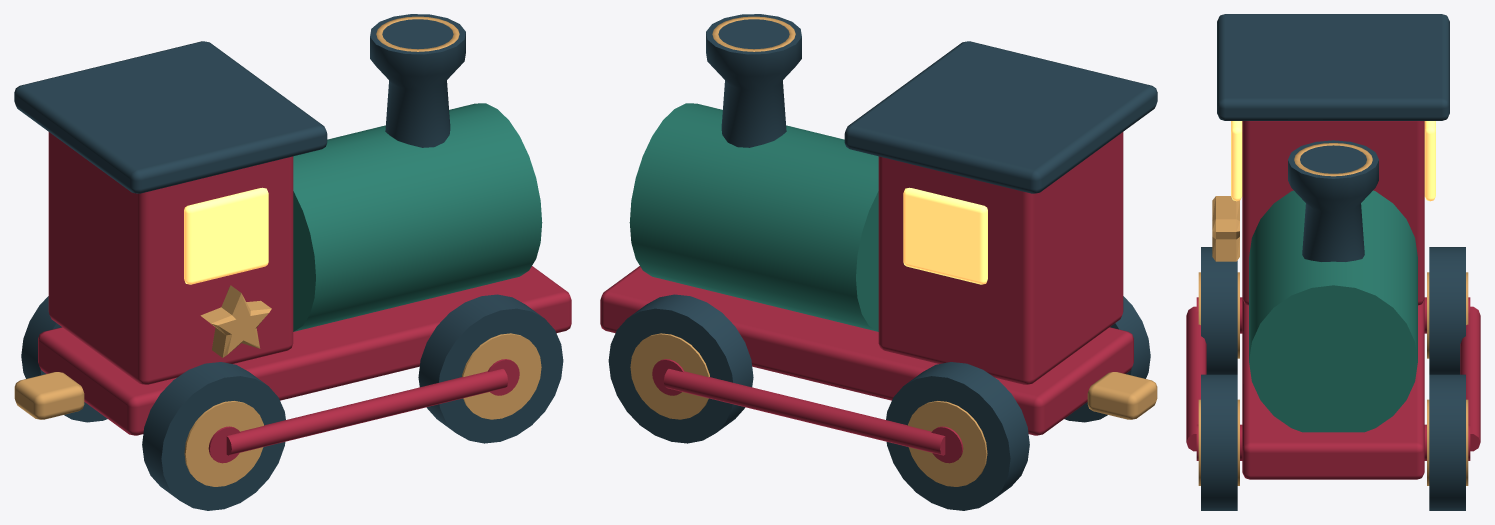
The model's file is train.glb.
The picture shows the model from 3 angles, left to right: view 1: azimuth 30°, elevation 25°; view 2: azimuth 150°, elevation 25°; view 3: azimuth 270°, elevation 25°; orthographic projection. The views are drawn at different scales.
Parts seen in each view (by area): view 1: little-christmas-train; view 2: little-christmas-train; view 3: little-christmas-train.
Part boxes in pixels (box(x1,y1,x2,y2)): little-christmas-train: box(14, 14, 571, 510); little-christmas-train: box(600, 14, 1157, 510); little-christmas-train: box(1186, 14, 1480, 510).
Size of the model in its own units: 1.2 by 0.8204 by 0.644.
